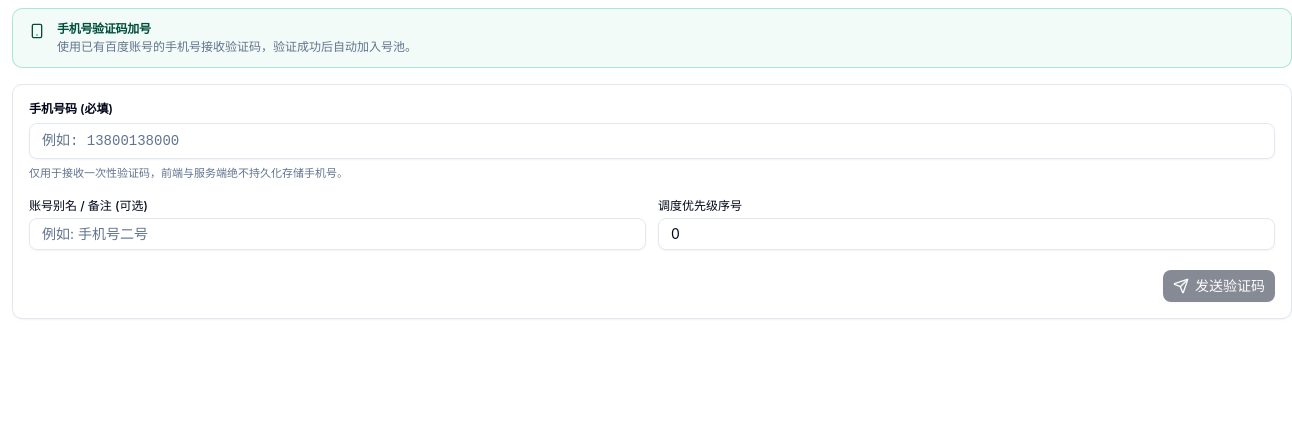
Test: SMS account login › blocks expired sessions and offers a fresh attempt without automatically sending SMS
This screenshot has width=1292, height=448.
Step 1. Type "13800000000" into the field labelled "手机号码 (必填)" → (652, 141), box [29,123,1275,159]
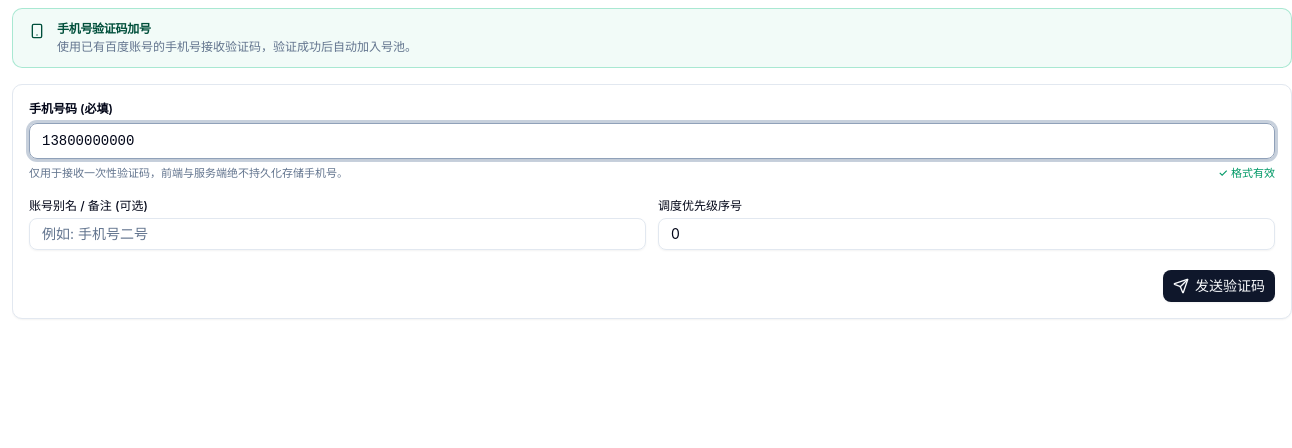
Step 2. Click the button "发送验证码" → (1219, 286), box [1163,270,1275,302]
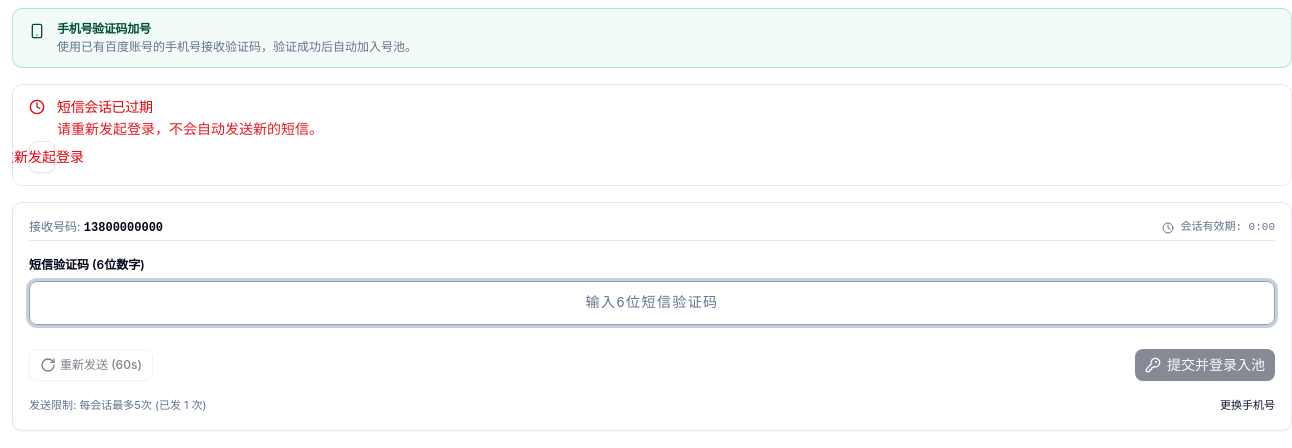
expect the text "短信会话已过期" is shown: met, box [57,98,153,115]
expect the button "提交并登录入池" is disabled: met, box [1135,349,1275,381]
Step 3. Click the button "重新发起登录" → (42, 157), box [29,141,55,173]
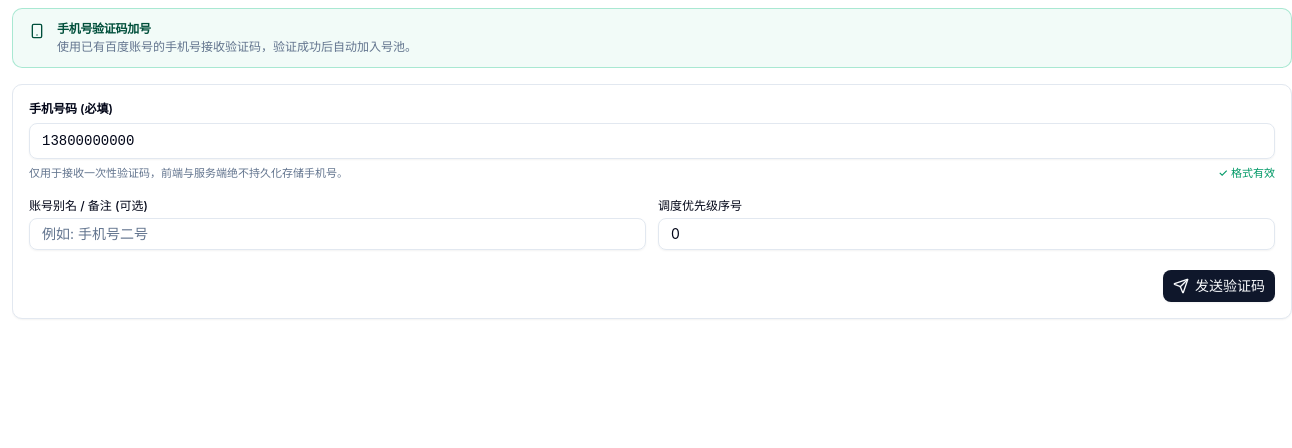
expect the button "发送验证码" is shown: met, box [1163,270,1275,302]
